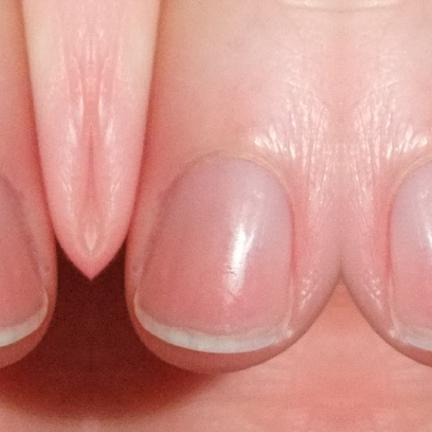Nail: (133, 159, 290, 353), (0, 177, 47, 347), (391, 163, 432, 350)
